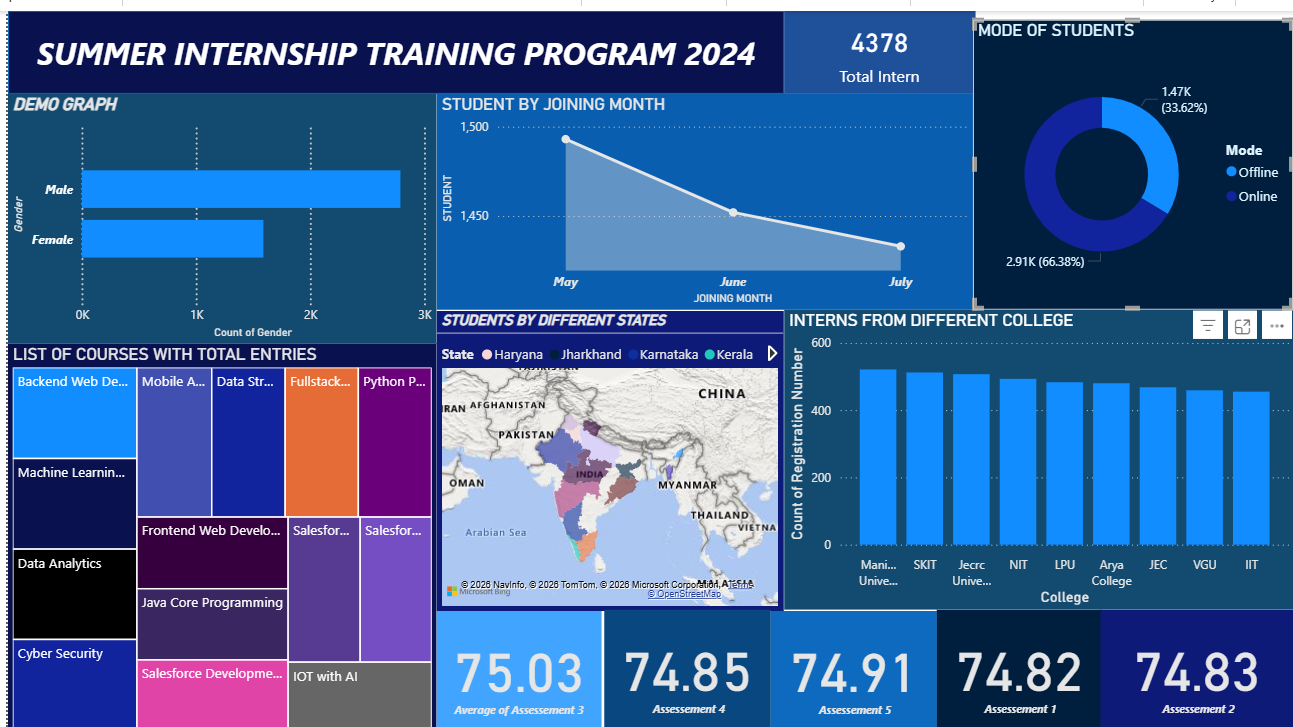

The page's visual inventory and layout, read from the dashboard file:
{"tool":"powerbi","page":{"name":"Page 2","canvas":[1280,720],"ordinal":1},"visuals":[{"type":"shape","box":[0,0,772.5,82.5],"z":0},{"type":"clusteredBarChart","title":"DEMO GRAPH","fields":{"Y":["CountNonNull(Student Record.Gender)"],"Category":["Student Record.Gender"]},"box":[0,82.1,426.7,248.8],"z":2},{"type":"card","fields":{"Values":["Accounts.total intern"]},"box":[772.5,0,190,82.5],"z":3},{"type":"treemap","title":"LIST OF COURSES WITH TOTAL ENTRIES","fields":{"Group":["csv.Domain"],"Values":["CountNonNull(csv.Registration Number)"]},"box":[0,330.9,426.7,389.4],"z":4},{"type":"filledMap","title":"STUDENTS BY DIFFERENT STATES","fields":{"Series":["State.State"],"Category":["State.State"]},"box":[426.7,298.9,344.4,297.8],"z":5},{"type":"areaChart","title":"STUDENT BY JOINING MONTH","fields":{"Category":["csv.Joining"],"Y":["CountNonNull(csv.Registration Number)"]},"box":[427.5,82.5,533.8,215],"z":6},{"type":"card","fields":{"Values":["Avg(csv.Assessement 5)"]},"box":[758.6,597.1,165.7,122.9],"z":7},{"type":"card","fields":{"Values":["Avg(csv.Assessement 4)"]},"box":[592.9,595.7,165.7,124.3],"z":8},{"type":"card","fields":{"Values":["Avg(csv.Assessement 1)"]},"box":[924.3,595.7,164.3,124.3],"z":9},{"type":"card","fields":{"Values":["Avg(csv.Assessement 2)"]},"box":[1087.5,596.2,192.5,123.8],"z":10},{"type":"card","fields":{"Values":["Avg(csv.Assessement 3)"]},"box":[427.1,597.1,164.3,122.9],"z":11},{"type":"columnChart","title":"INTERNS FROM DIFFERENT COLLEGE","fields":{"Category":["Student Record.College"],"Y":["CountNonNull(Student Record.Registration Number)"]},"box":[772.5,297.5,507.5,298.8],"z":12},{"type":"donutChart","title":"MODE OF STUDENTS","fields":{"Series":["csv.Mode"],"Y":["CountNonNull(csv.Domain)"]},"box":[962,83,318,215],"z":13}]}

Visuals, with their boxes in screenshot pixels (x1, y1, x2, y2), scaled from the page's 1280x720 canvas onto the 1293x727 screenshot:
shape: x1=0, y1=0, x2=780, y2=83
"DEMO GRAPH" clusteredBarChart: x1=0, y1=83, x2=431, y2=334
card - Accounts.total intern: x1=780, y1=0, x2=972, y2=83
"LIST OF COURSES WITH TOTAL ENTRIES" treemap: x1=0, y1=334, x2=431, y2=726
"STUDENTS BY DIFFERENT STATES" filledMap: x1=431, y1=302, x2=779, y2=603
"STUDENT BY JOINING MONTH" areaChart: x1=432, y1=83, x2=971, y2=300
card - Avg(csv.Assessement 5): x1=766, y1=603, x2=934, y2=726
card - Avg(csv.Assessement 4): x1=599, y1=601, x2=766, y2=726
card - Avg(csv.Assessement 1): x1=934, y1=601, x2=1100, y2=726
card - Avg(csv.Assessement 2): x1=1099, y1=602, x2=1292, y2=726
card - Avg(csv.Assessement 3): x1=431, y1=603, x2=597, y2=726
"INTERNS FROM DIFFERENT COLLEGE" columnChart: x1=780, y1=300, x2=1292, y2=602
"MODE OF STUDENTS" donutChart: x1=972, y1=84, x2=1292, y2=301
